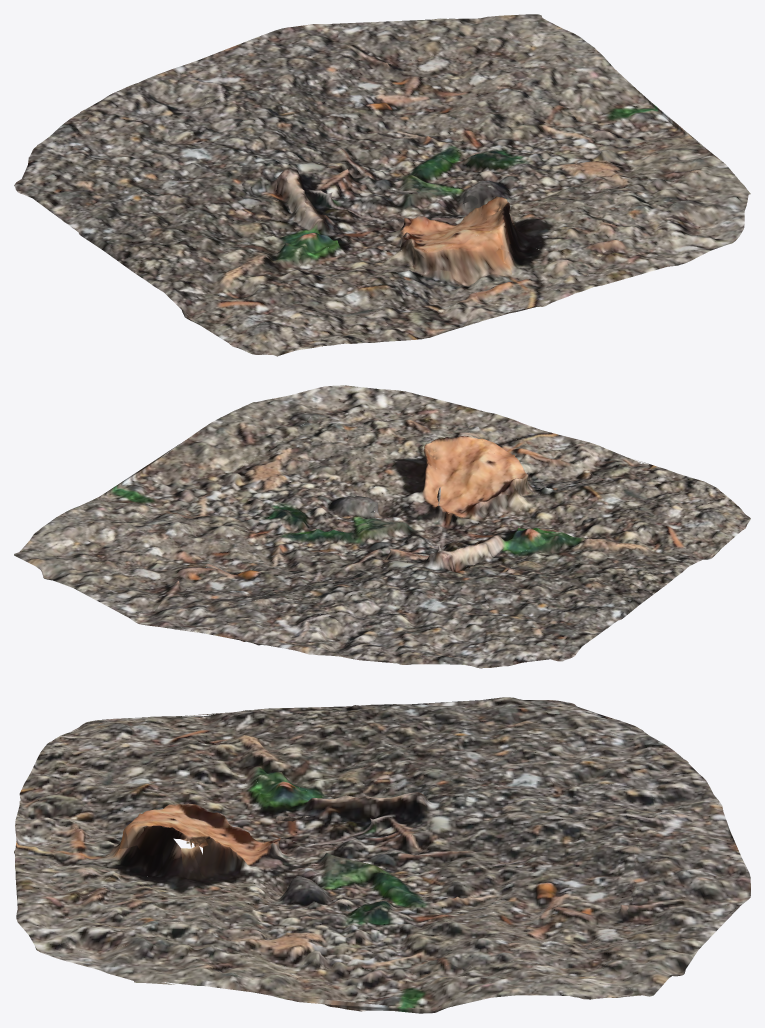
Rendered from modello3.glb.
3 views of the same model, one above another, from view 1: azimuth 30°, elevation 25°; view 2: azimuth 150°, elevation 25°; view 3: azimuth 270°, elevation 25° (orthographic). The views are drawn at different scales.
Parts seen in each view (by area): view 1: mesh.002; view 2: mesh.002; view 3: mesh.002.
Boxes of the visible parts, x1,y1,x2,y2 form: mesh.002: (14, 14, 750, 356); mesh.002: (14, 385, 750, 668); mesh.002: (14, 697, 750, 1013).
Size of what is drawn, in the model's own units: 0.3433 by 0.0299 by 0.3492.
Materials: 1 (1 with a texture image).
